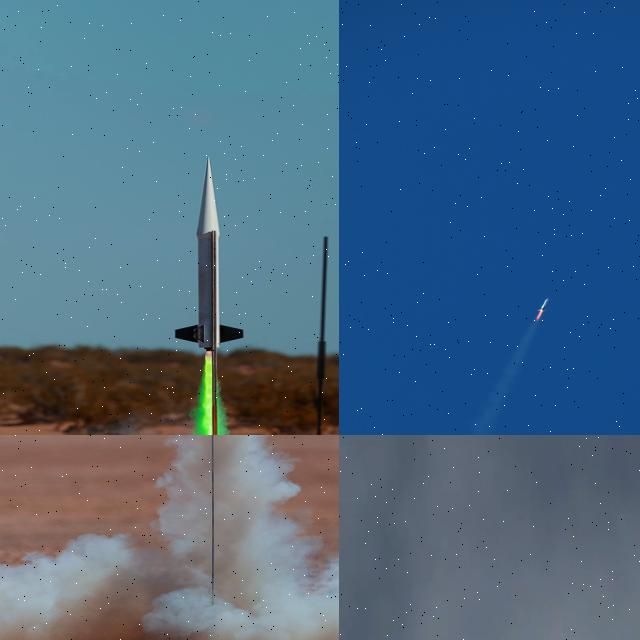Rocket: (172, 156, 246, 354), (537, 298, 549, 312)
